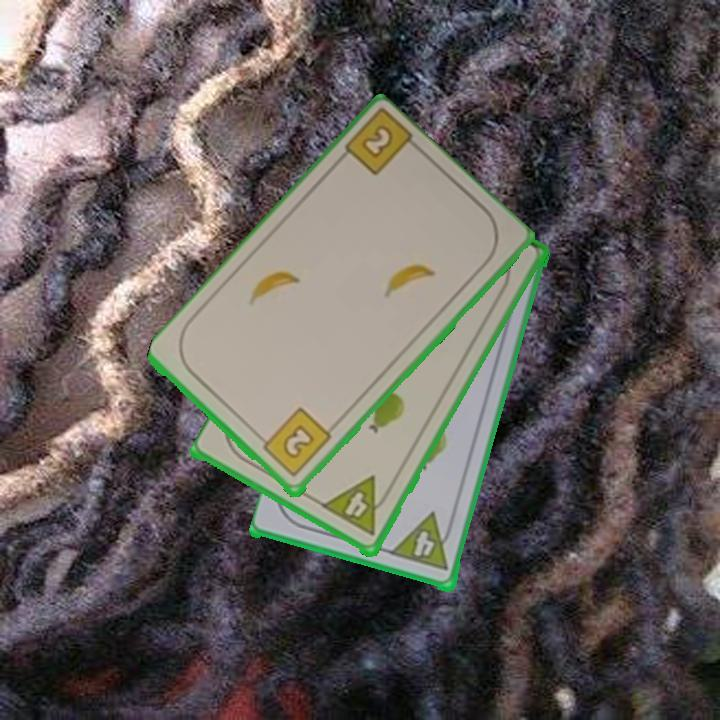2b: (256, 404, 334, 481), (357, 121, 397, 162)
4p: (319, 473, 395, 540), (389, 510, 438, 563)
